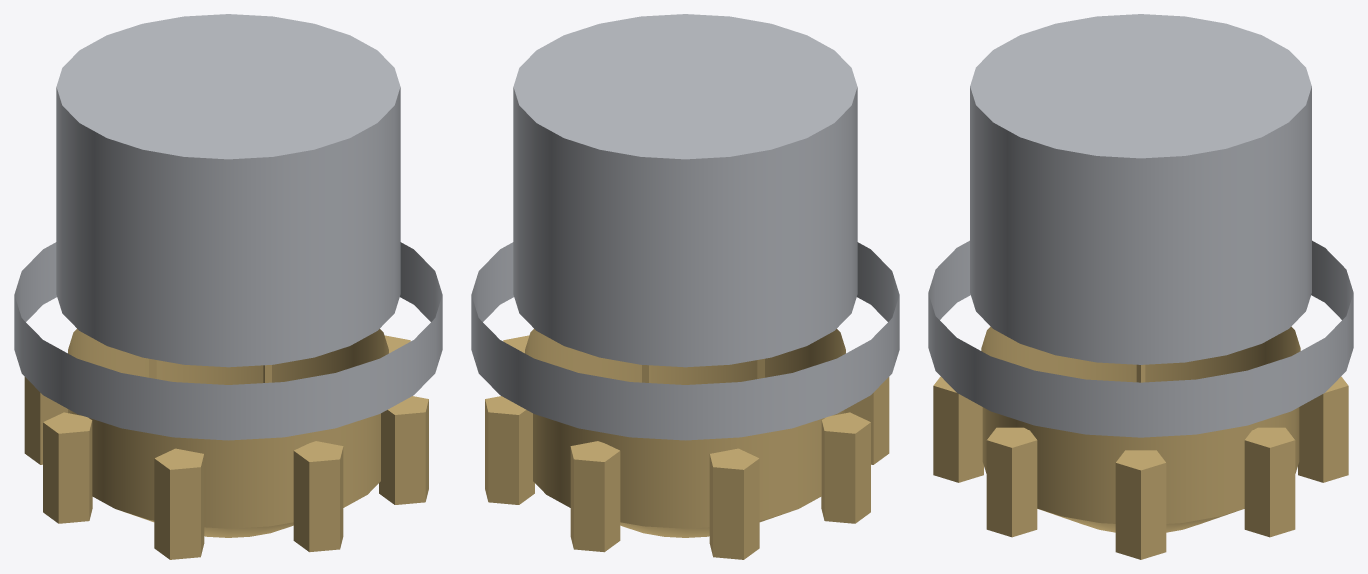
Rendered from spur.glb.
The picture shows the model from 3 angles, left to right: view 1: azimuth 30°, elevation 25°; view 2: azimuth 150°, elevation 25°; view 3: azimuth 270°, elevation 25°; orthographic projection.
Parts seen in each view (by area): view 1: bit_spur; view 2: bit_spur; view 3: bit_spur.
Boxes of the visible parts, <box> form: bit_spur: <box>14,14,442,559</box>; bit_spur: <box>471,14,899,559</box>; bit_spur: <box>928,14,1353,559</box>.
Bounding box in the file's own units: 11.2 × 12 × 11.2.
